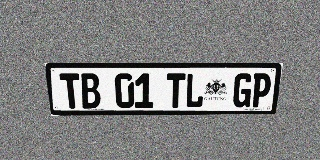0: (114, 73, 134, 108)
1: (134, 73, 153, 108)
B: (79, 73, 101, 108)
G: (232, 73, 254, 107)
L: (185, 73, 205, 108)
P: (250, 73, 272, 107)
T: (59, 73, 82, 109), (166, 73, 186, 108)
